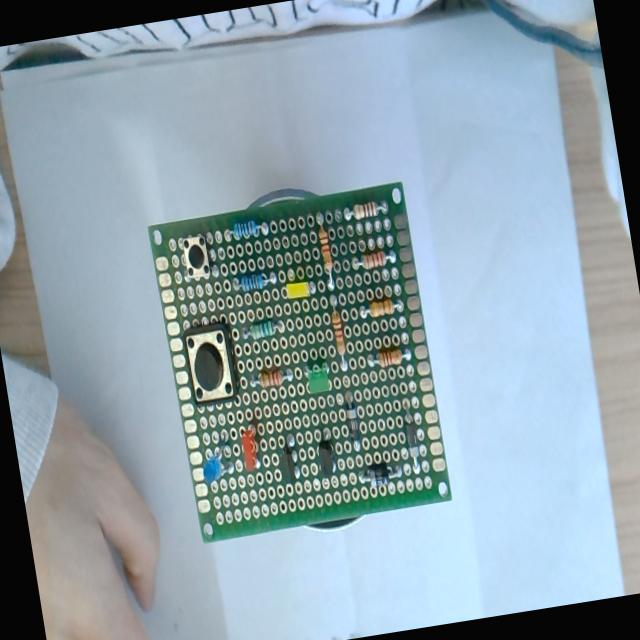diode: (399, 403, 429, 472), (355, 461, 408, 496), (341, 390, 369, 454)
led: (194, 427, 240, 488), (300, 354, 336, 398), (236, 420, 264, 476), (278, 272, 318, 308)
resistor: (305, 202, 344, 288), (324, 291, 356, 374), (366, 341, 414, 377), (248, 360, 294, 397), (339, 194, 392, 224), (356, 292, 405, 322), (224, 214, 276, 242), (230, 265, 278, 295), (348, 246, 399, 274), (240, 312, 286, 343)
switch: (180, 321, 243, 408), (174, 224, 216, 284)
transistor: (272, 424, 312, 486), (310, 424, 350, 482)
